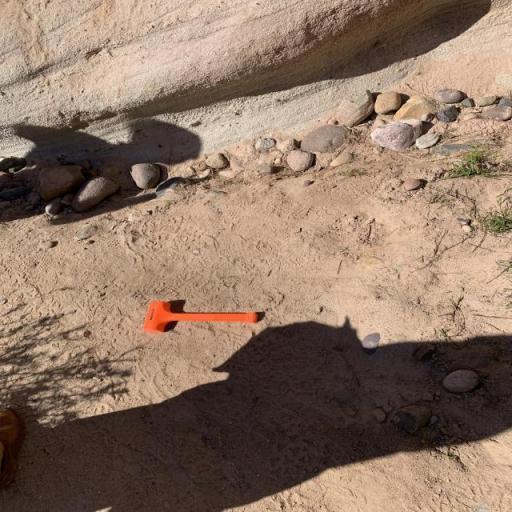mallet: (142, 300, 260, 334)
